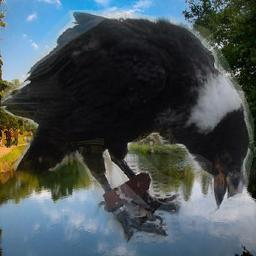Crow: (1, 10, 254, 243)
